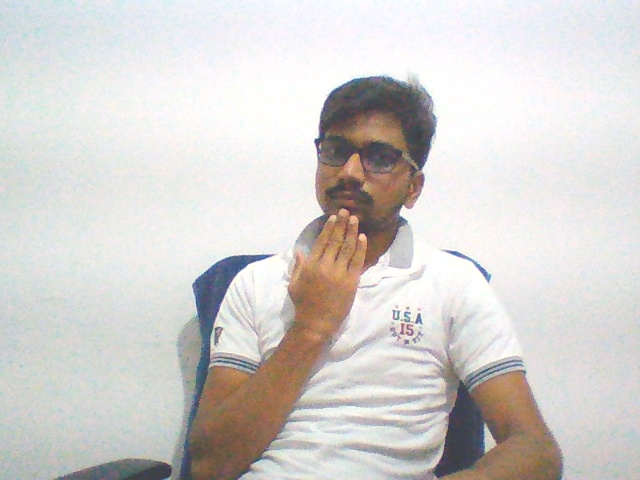mango: (285, 203, 372, 346)
